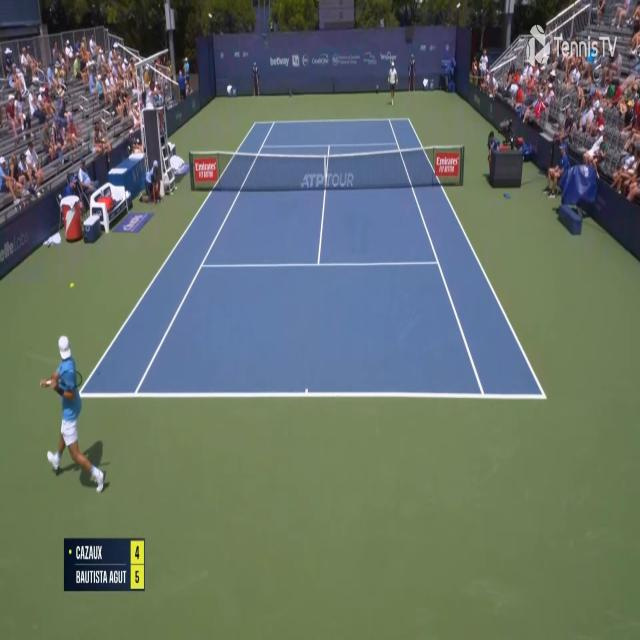tennis-player: (40, 333, 118, 497), (387, 60, 398, 106)
